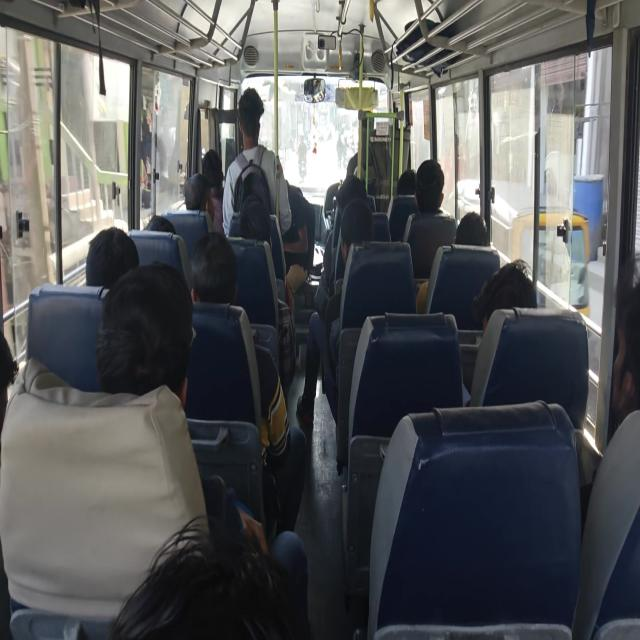person: (99, 475, 306, 640), (95, 264, 185, 420), (588, 283, 640, 423), (276, 177, 319, 292), (78, 226, 136, 310), (0, 309, 26, 447), (193, 240, 239, 305), (478, 282, 522, 330), (339, 202, 374, 256), (414, 168, 454, 214), (240, 197, 276, 243), (181, 178, 212, 214), (136, 212, 173, 241), (237, 89, 260, 129), (337, 179, 365, 209), (199, 139, 219, 179), (454, 207, 481, 236), (397, 162, 420, 186), (230, 182, 261, 198)
